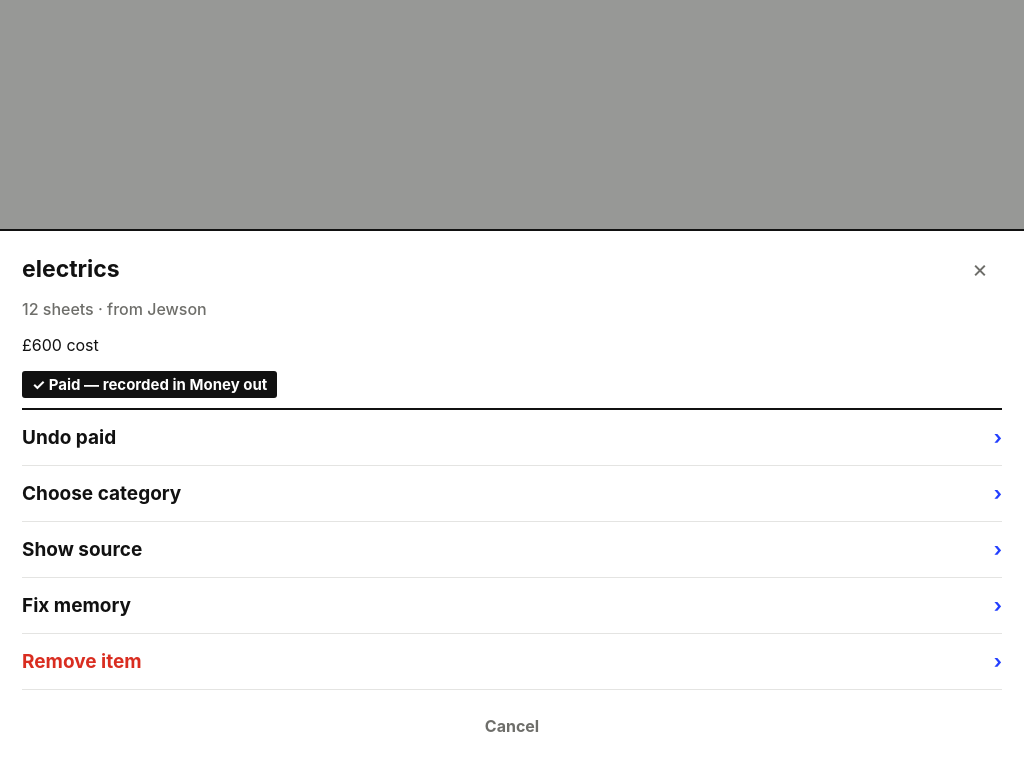
Test: ItemActionDrawer — Mark as paid › guards paid labour cost edits and keeps Undo paid available through Back
This screenshot has width=1024, height=768.
Click the button "Fix memory ›". click: (76, 606)
box: [22, 578, 1002, 634]
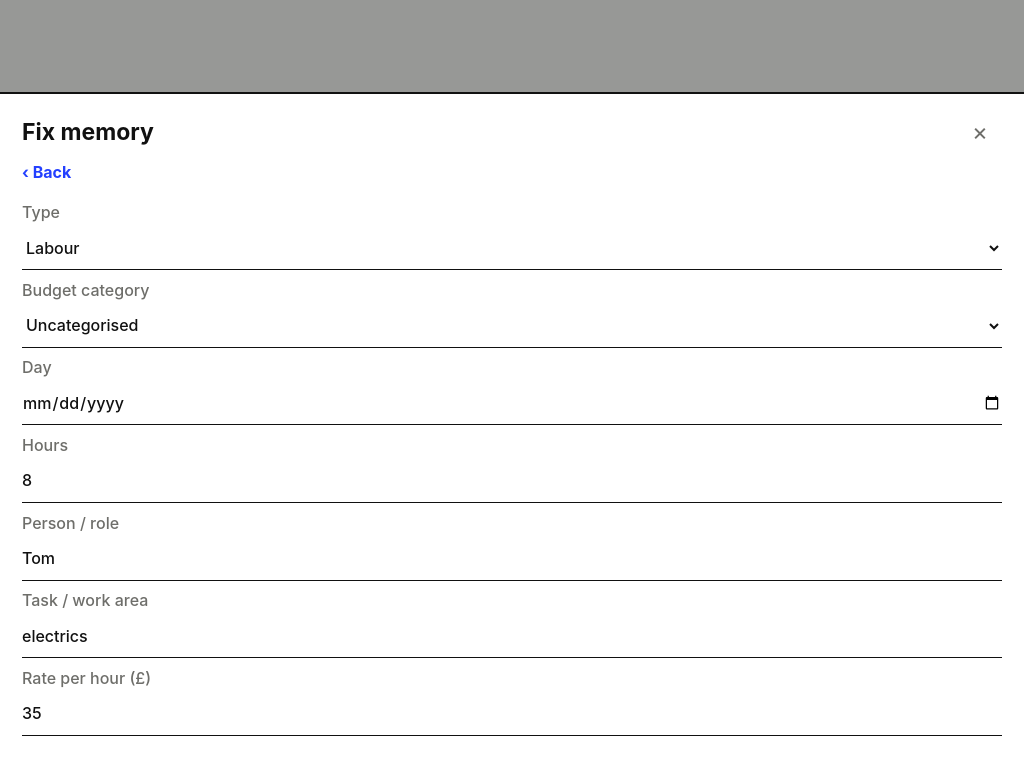
Replace the text in the field named "costAmount" with "40". click: (512, 714)
box: [22, 692, 1002, 736]
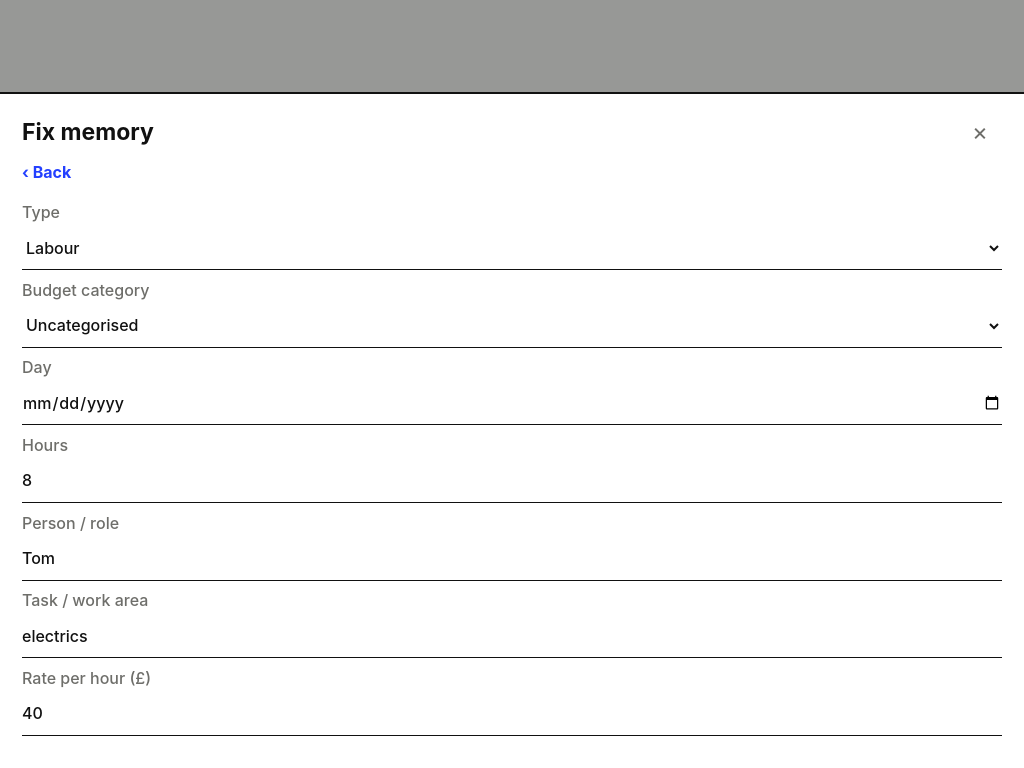
Click the button "‹ Back". click: (47, 178)
box: [22, 162, 71, 194]
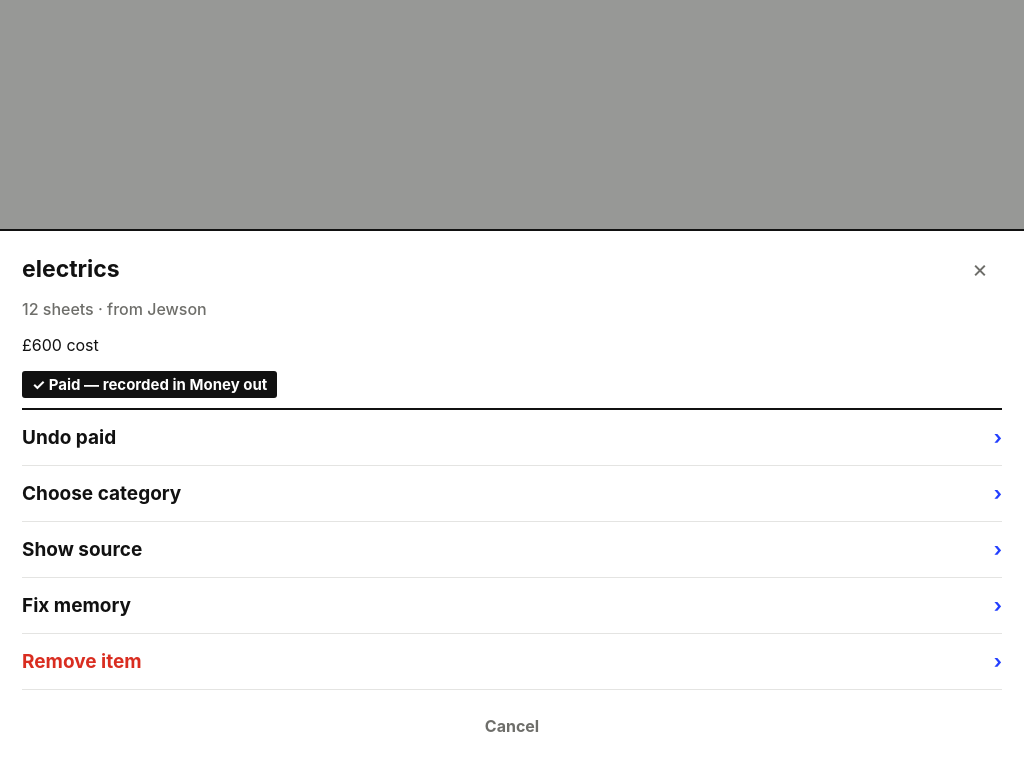
Expected: the button "Undo paid ›" is shown, [22, 410, 1002, 466]
